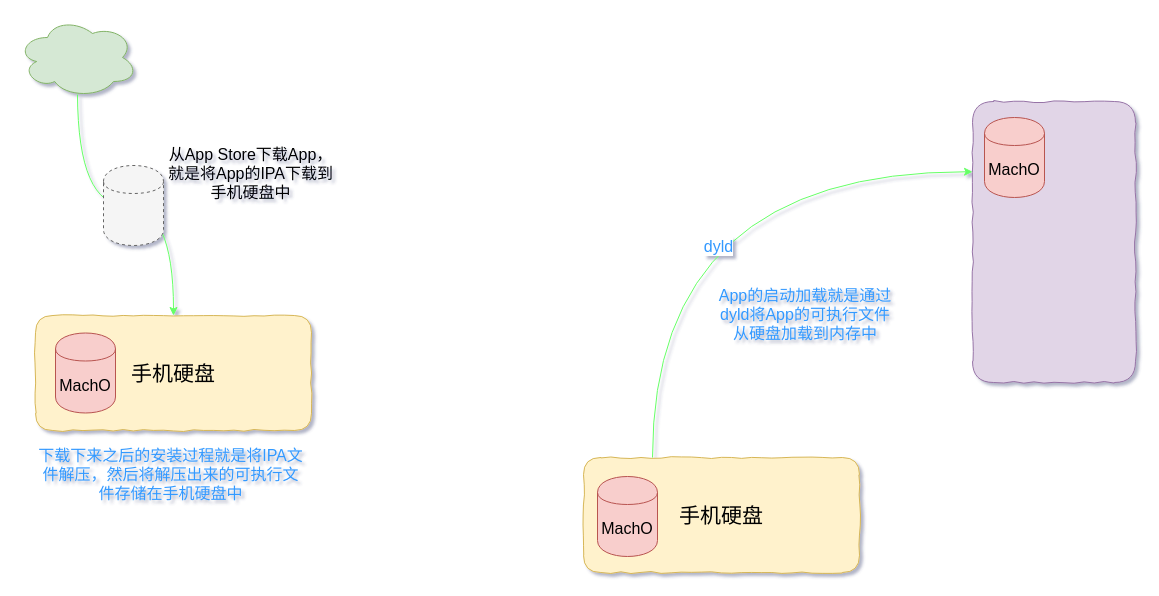
Image size: 1159x596. Some labels were removed from this diagram. The shapes that lost their labels are listed below. From the top down, each one's box as (x1, y1, x2, y2) in pixels, then its label:
(16, 16, 138, 98): AppStore
(102, 164, 164, 246): IPA
(972, 100, 1136, 382): 手机内存
